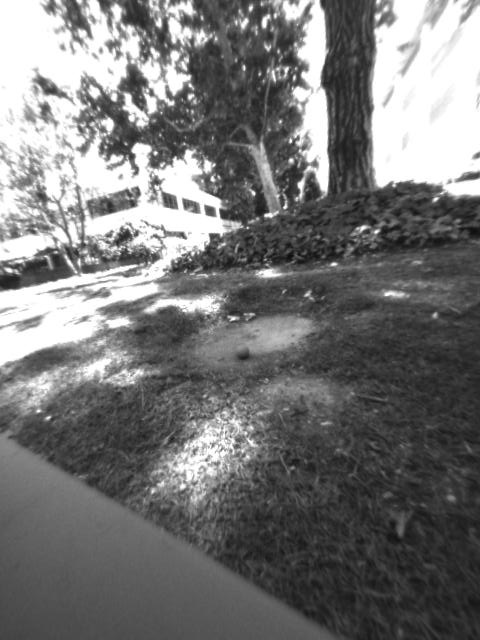dogtoy: (229, 340, 258, 366)
